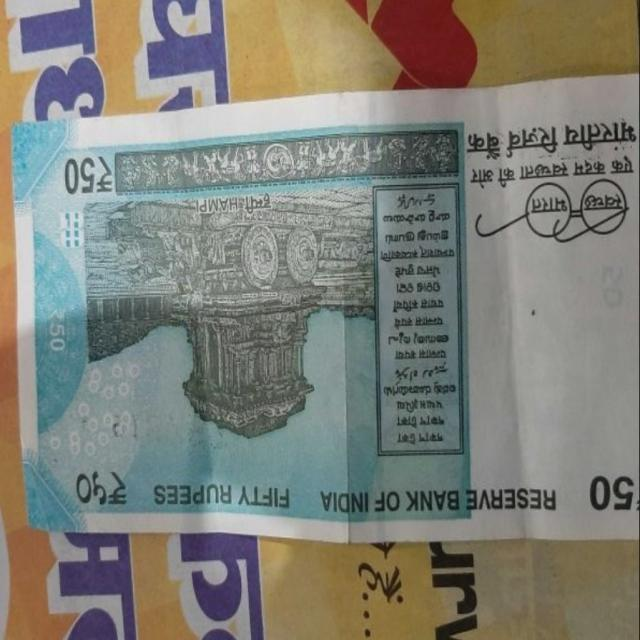50IndianRupees: (27, 95, 640, 530)
